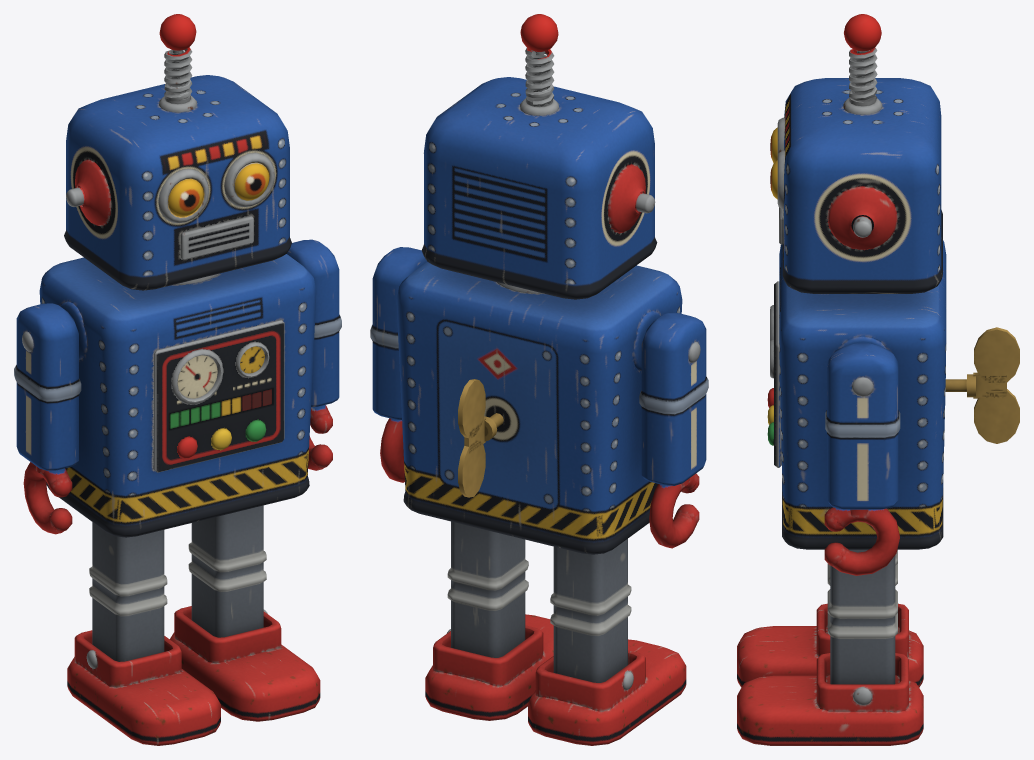
Rendered from WalkingRobot.fbx.
The picture shows the model from 3 angles, left to right: view 1: azimuth 30°, elevation 25°; view 2: azimuth 150°, elevation 25°; view 3: azimuth 270°, elevation 25°; orthographic projection. The views are drawn at different scales.
Parts seen in each view (by area): view 1: WalkingRobot_Body, WalkingRobot_ArmR, WalkingRobot_FootR, WalkingRobot_FootL, WalkingRobot_LegR, WalkingRobot_LegL, WalkingRobot_ArmL, WalkingRobot_Aerial; view 2: WalkingRobot_Body, WalkingRobot_ArmR, WalkingRobot_FootR, WalkingRobot_LegR, WalkingRobot_LegL, WalkingRobot_FootL, WalkingRobot_ArmL, WalkingRobot_Key, WalkingRobot_Aerial; view 3: WalkingRobot_Body, WalkingRobot_ArmL, WalkingRobot_FootL, WalkingRobot_LegL, WalkingRobot_FootR, WalkingRobot_Key, WalkingRobot_Aerial.
Part boxes in pixels (<box>): WalkingRobot_Body: <box>39,75,316,537</box>; WalkingRobot_ArmR: <box>14,303,81,534</box>; WalkingRobot_FootR: <box>67,630,220,745</box>; WalkingRobot_FootL: <box>169,606,320,721</box>; WalkingRobot_LegR: <box>89,522,167,661</box>; WalkingRobot_LegL: <box>188,505,266,637</box>; WalkingRobot_ArmL: <box>286,239,341,470</box>; WalkingRobot_Aerial: <box>159,14,196,104</box>; WalkingRobot_Body: <box>396,77,682,554</box>; WalkingRobot_ArmR: <box>639,312,708,548</box>; WalkingRobot_FootR: <box>528,639,686,745</box>; WalkingRobot_LegR: <box>550,539,631,682</box>; WalkingRobot_LegL: <box>447,521,528,657</box>; WalkingRobot_FootL: <box>425,614,553,720</box>; WalkingRobot_ArmL: <box>370,247,427,482</box>; WalkingRobot_Key: <box>458,379,503,497</box>; WalkingRobot_Aerial: <box>520,14,558,106</box>; WalkingRobot_Body: <box>767,78,946,549</box>; WalkingRobot_ArmL: <box>824,343,900,575</box>; WalkingRobot_FootL: <box>737,653,923,745</box>; WalkingRobot_LegL: <box>827,549,897,684</box>; WalkingRobot_FootR: <box>737,603,923,687</box>; WalkingRobot_Key: <box>945,327,1019,443</box>; WalkingRobot_Aerial: <box>844,14,881,106</box>.
Bounding box in the file's own units: 0.3512 × 0.735 × 0.2746.
Materials: 1 (1 with a texture image).
